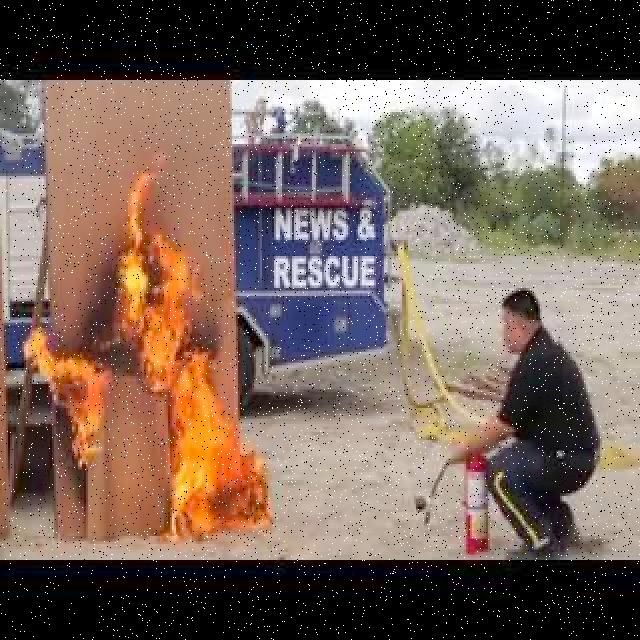fire: (123, 163, 270, 540), (30, 338, 101, 461)
